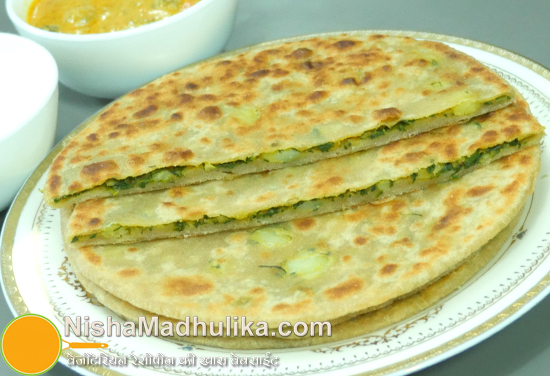aloo_paratha: (44, 32, 541, 348)
